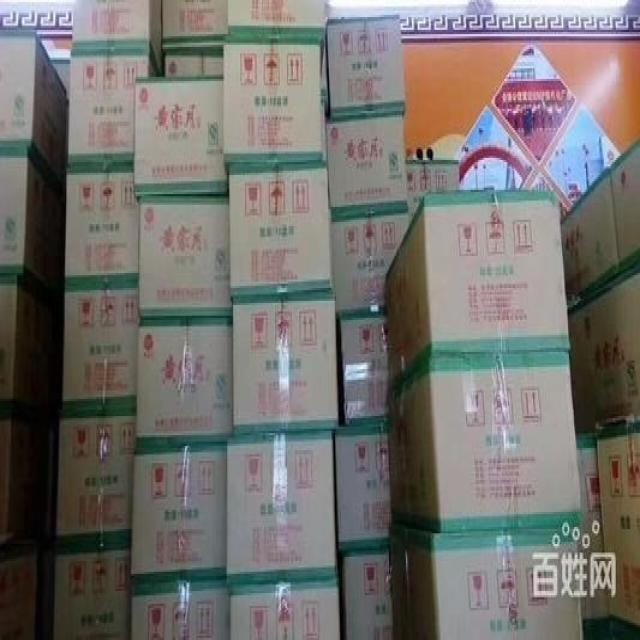box: (385, 190, 570, 390), (387, 352, 580, 533), (388, 523, 584, 640), (226, 431, 339, 582), (231, 294, 340, 439), (228, 158, 334, 301), (132, 437, 226, 585), (136, 314, 233, 450), (566, 271, 640, 437), (0, 26, 68, 203), (137, 192, 231, 318), (223, 45, 323, 162), (56, 405, 136, 548), (134, 75, 229, 192), (1, 147, 68, 297), (67, 51, 149, 173), (61, 286, 137, 410), (560, 169, 621, 318), (0, 275, 65, 414), (325, 113, 409, 220), (597, 418, 639, 627), (330, 207, 409, 318), (65, 166, 139, 284), (1, 410, 61, 548), (324, 17, 405, 117), (54, 542, 133, 640), (227, 574, 342, 638), (335, 422, 391, 553), (72, 2, 162, 75), (574, 431, 609, 617), (336, 316, 388, 425), (130, 585, 229, 640), (156, 2, 228, 77), (1, 548, 58, 638), (339, 546, 393, 636), (226, 2, 328, 47), (609, 134, 640, 279), (405, 156, 461, 224)
